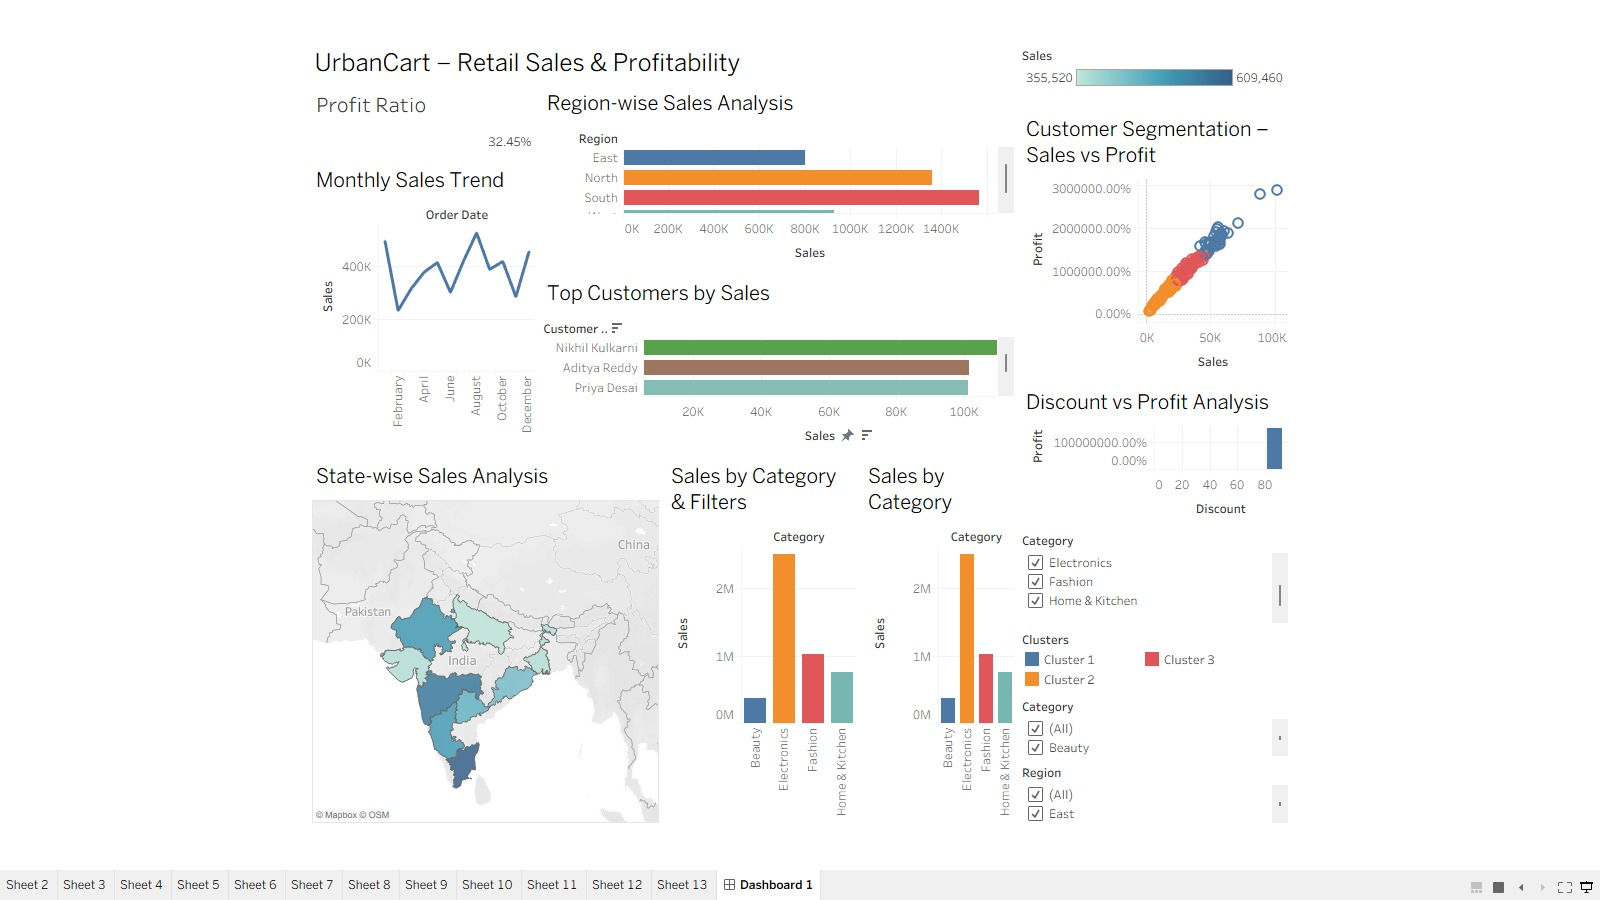

What the dashboard file says about the page in this screenshot:
{"tool":"tableau","page":{"name":"Dashboard 1","canvas":[1000,800],"ordinal":0},"visuals":[{"type":"title","box":[8,8,710,39]},{"type":"legend","title":"Sheet 4","param":"[federated.1gfi5901nhm84y1fvslv51ipoy06].[sum:Sales:qk]","box":[718,8,274,65]},{"type":"worksheet","title":"Sheet 2","mark":"Automatic","box":[8,47,231.5,77]},{"type":"worksheet","title":"Sheet 9","mark":"Bar","rows":["Region"],"cols":["Sales"],"box":[239.5,47,478.5,203]},{"type":"worksheet","title":"Sheet 6","mark":"Automatic","rows":["Profit"],"cols":["Sales"],"box":[718,73,274,261]},{"type":"worksheet","title":"Sheet 3","mark":"Line","rows":["Sales"],"cols":["Order_Date"],"box":[8,124,231.5,296]},{"type":"worksheet","title":"Sheet 7","mark":"Automatic","rows":["Customer_Name"],"cols":["Sales"],"box":[239.5,250,478.5,170]},{"type":"worksheet","title":"Sheet 8","mark":"Bar","rows":["Profit"],"cols":["Discount"],"box":[718,334,274,147]},{"type":"worksheet","title":"Sheet 4","mark":"Automatic","box":[8,420,355,372]},{"type":"worksheet","title":"Sheet 5","mark":"Automatic","rows":["Sales"],"cols":["Category"],"box":[363,420,197.5,372]},{"type":"worksheet","title":"Sheet 13","mark":"Bar","rows":["Sales"],"cols":["Category"],"box":[560.5,420,157.6,372]},{"type":"filter","title":"Sheet 13","param":"[federated.1gfi5901nhm84y1fvslv51ipoy06].[none:Category:nk]","box":[718,481,274,99]},{"type":"legend","title":"Sheet 6","param":"[federated.1gfi5901nhm84y1fvslv51ipoy06].[none:AdhocCluster:1:ok]","box":[718,580,274,70.7]},{"type":"filter","title":"Sheet 5","param":"[federated.1gfi5901nhm84y1fvslv51ipoy06].[none:Category:nk]","box":[718,650.7,274,70.7]},{"type":"filter","title":"Sheet 5","param":"[federated.1gfi5901nhm84y1fvslv51ipoy06].[none:Region:nk]","box":[718,721.3,274,70.7]}]}

Visuals, with their boxes on the page's 1000x800 design canvas (x1, y1, x2, y2). These are canvas units, not pixel positions in the 1600x900 screenshot, which may show the page scaled, cropped or inside an application window:
title: bbox(8, 8, 718, 47)
"Sheet 4" legend: bbox(718, 8, 992, 73)
"Sheet 2" worksheet: bbox(8, 47, 240, 124)
"Sheet 9" worksheet (Bar marks): bbox(240, 47, 718, 250)
"Sheet 6" worksheet: bbox(718, 73, 992, 334)
"Sheet 3" worksheet (Line marks): bbox(8, 124, 240, 420)
"Sheet 7" worksheet: bbox(240, 250, 718, 420)
"Sheet 8" worksheet (Bar marks): bbox(718, 334, 992, 481)
"Sheet 4" worksheet: bbox(8, 420, 363, 792)
"Sheet 5" worksheet: bbox(363, 420, 560, 792)
"Sheet 13" worksheet (Bar marks): bbox(560, 420, 718, 792)
"Sheet 13" filter: bbox(718, 481, 992, 580)
"Sheet 6" legend: bbox(718, 580, 992, 651)
"Sheet 5" filter: bbox(718, 651, 992, 721)
"Sheet 5" filter: bbox(718, 721, 992, 792)
